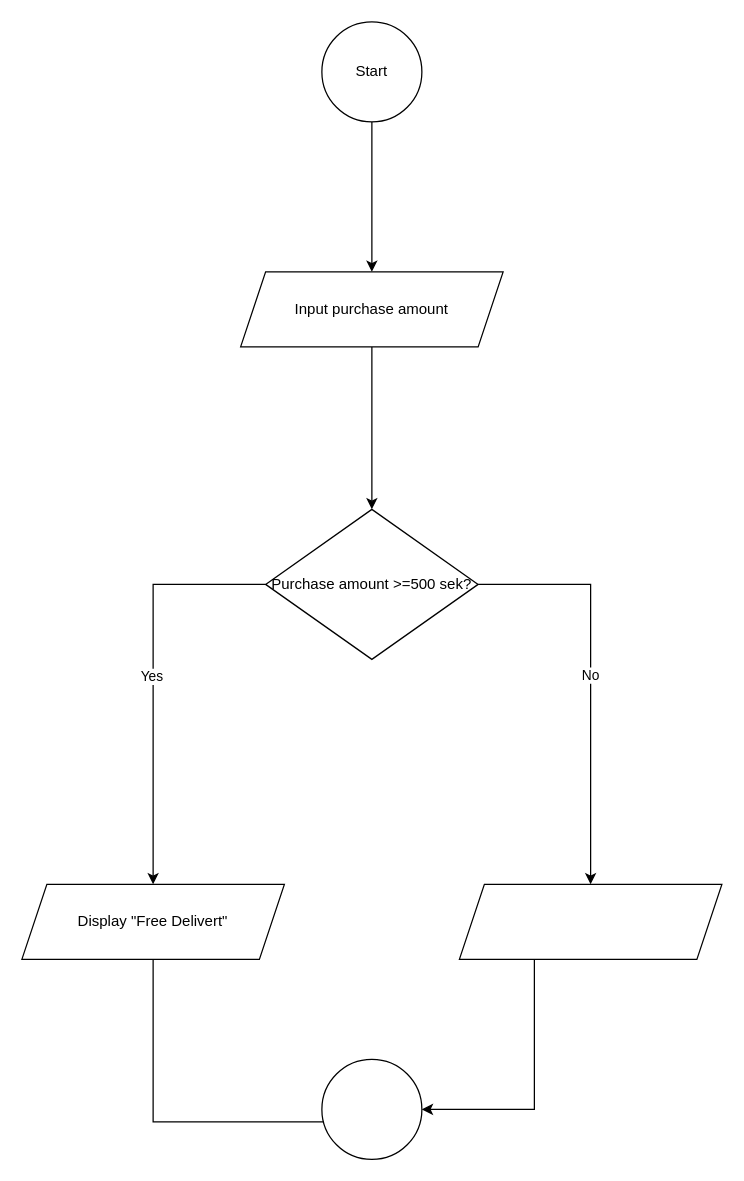
The diagram is 744 pixels wide and 1181 high, and some of its shapes have lost their labels. Each missing label, with the centre of its shape:
Display "Delvery Change Applie": pixel 590 921
End: pixel 371 1108
